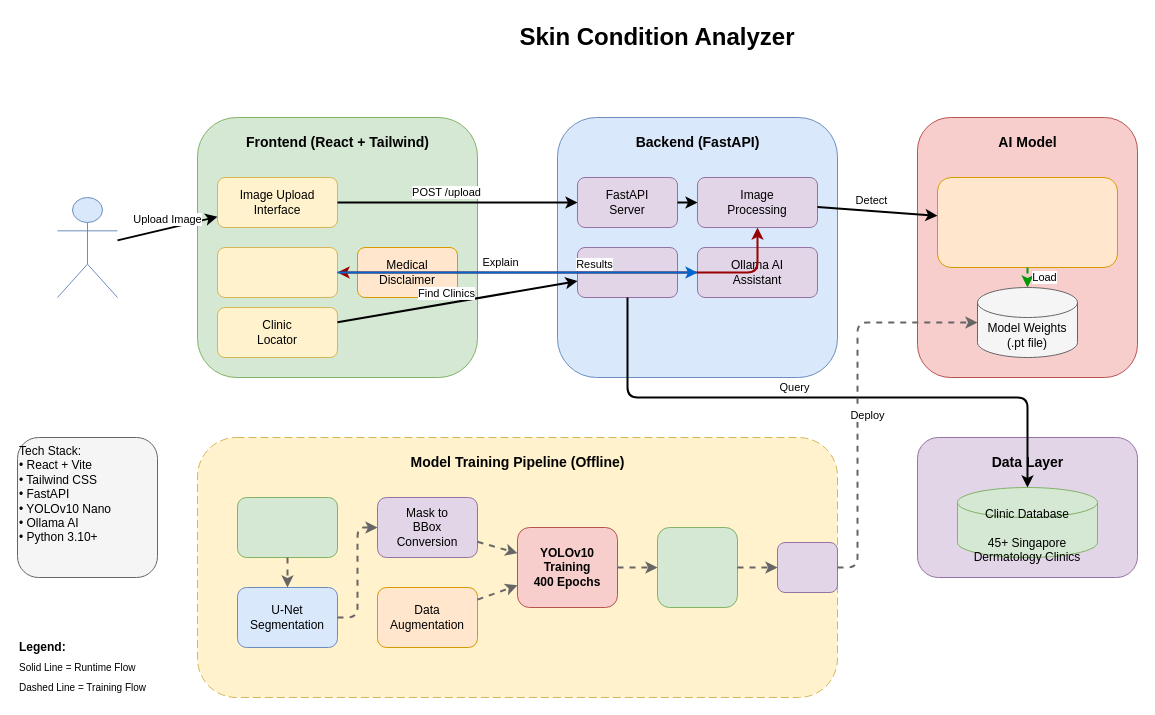
The diagram is 1155 pixels wide and 715 high, and some of its shapes have lost their labels. The centre of each missing label's shape, as x and y in pixels:
"Clinic Service" goes at pixel 627 272.
"Export Model" goes at pixel 807 567.
"Results Display" goes at pixel 277 272.
"Skin Lesion Dataset" goes at pixel 287 527.
"User" goes at pixel 87 247.
"Validation & Testing" goes at pixel 697 567.
"YOLOv10 Nano • 400 Epochs • 7 Classes • Bounding Boxes" goes at pixel 1027 222.
